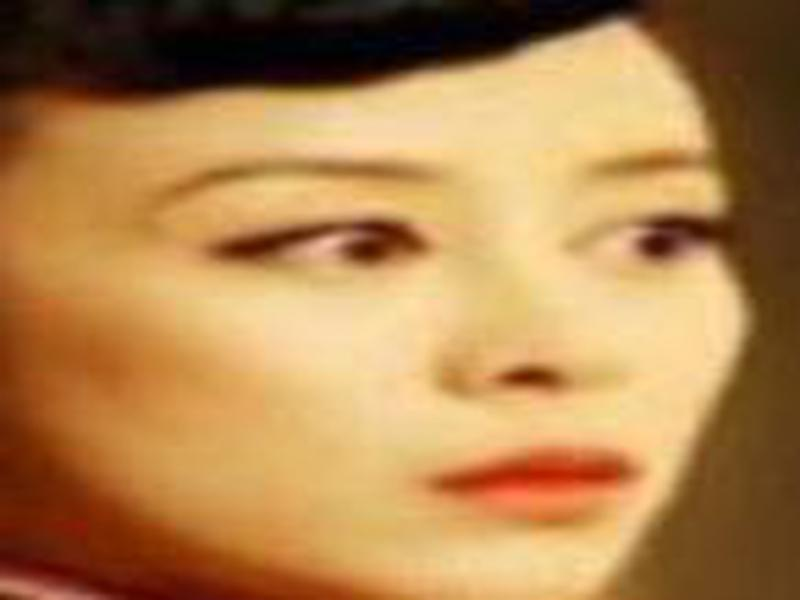without_mask: (19, 61, 746, 591)
